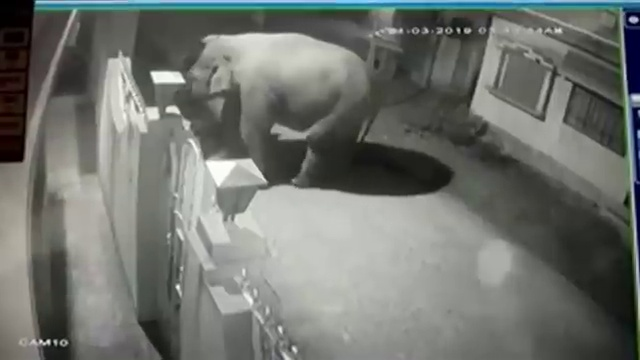Elephant: (186, 32, 380, 188)
